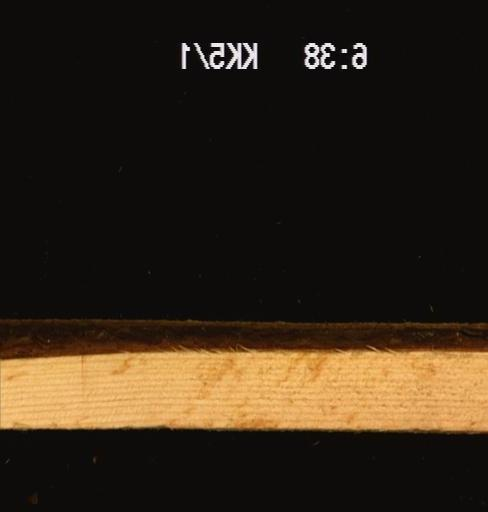wave: (0, 317, 486, 360)
